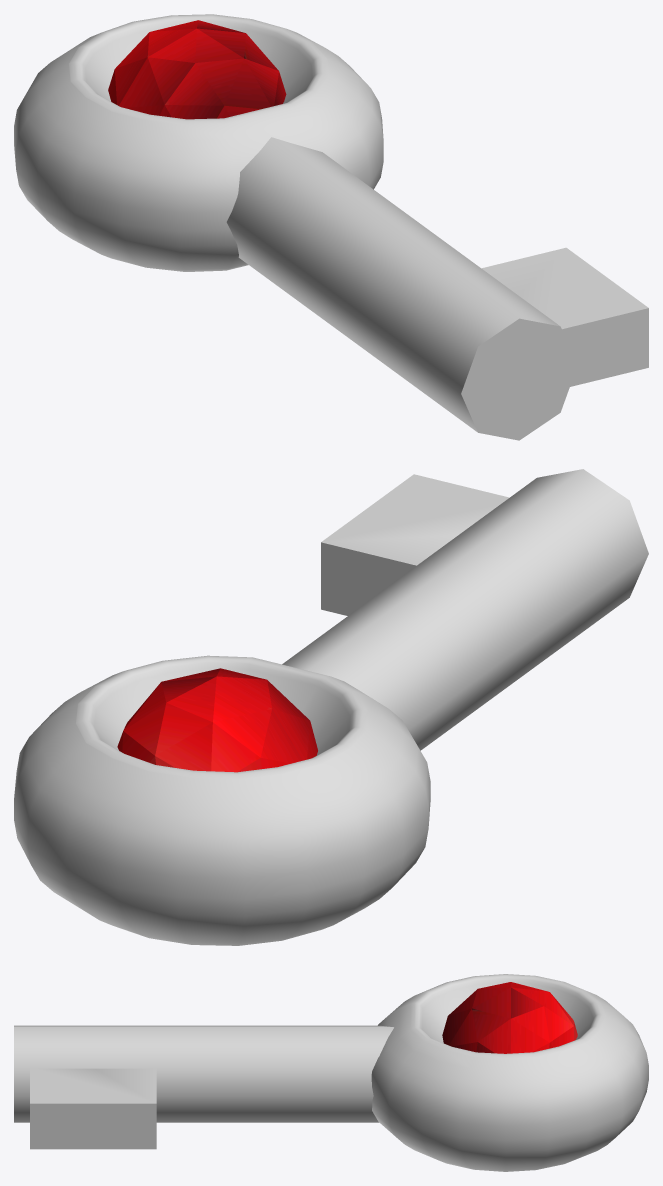
Rendered from Key.fbx.
3 renders of one model, top to bottom at view 1: azimuth 30°, elevation 25°; view 2: azimuth 150°, elevation 25°; view 3: azimuth 270°, elevation 25°, orthographic. The views are drawn at different scales.
Parts seen in each view (by area): view 1: Key; view 2: Key; view 3: Key.
Part boxes in pixels (x1=…): Key: x1=14, y1=14, x2=648, y2=440; Key: x1=14, y1=469, x2=648, y2=945; Key: x1=14, y1=974, x2=648, y2=1171.
Size of the model in its own units: 100 by 67 by 224.
2 materials, 1 textured.
